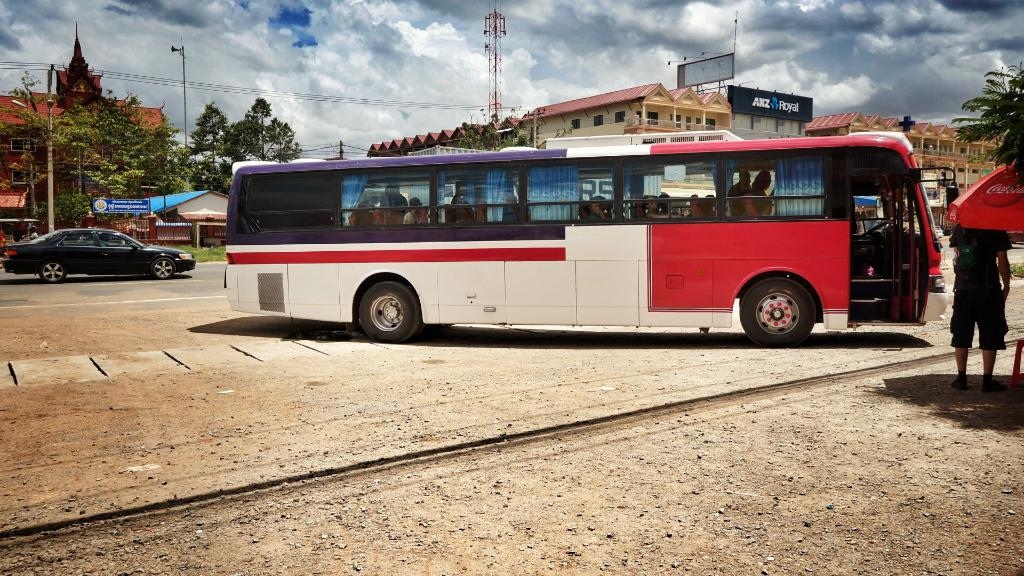Bus: (222, 120, 961, 347)
